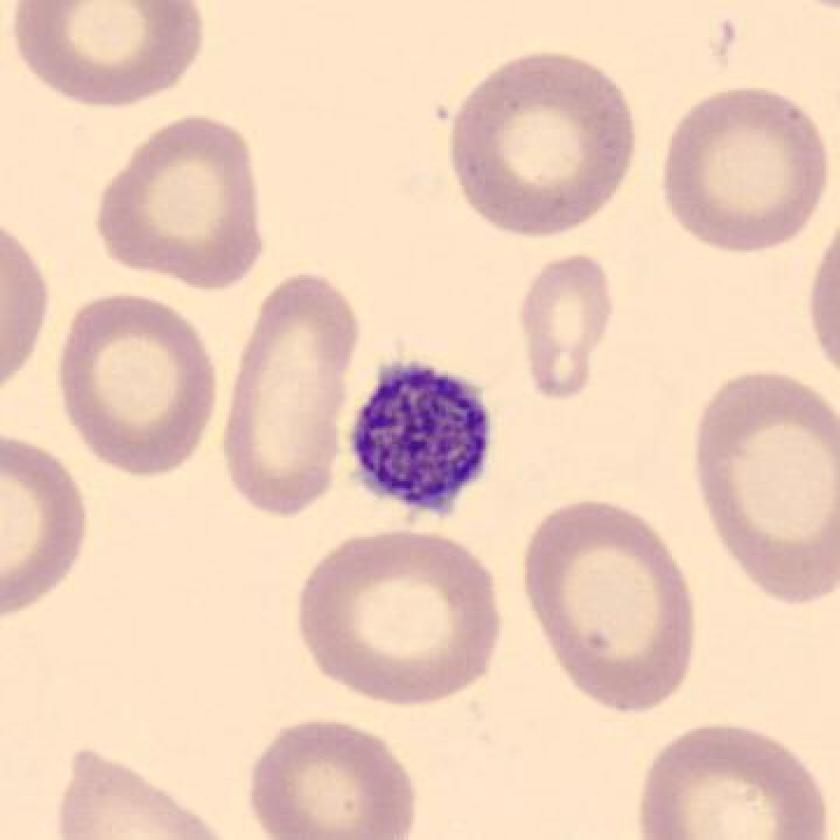platelets: (349, 357, 496, 524)
